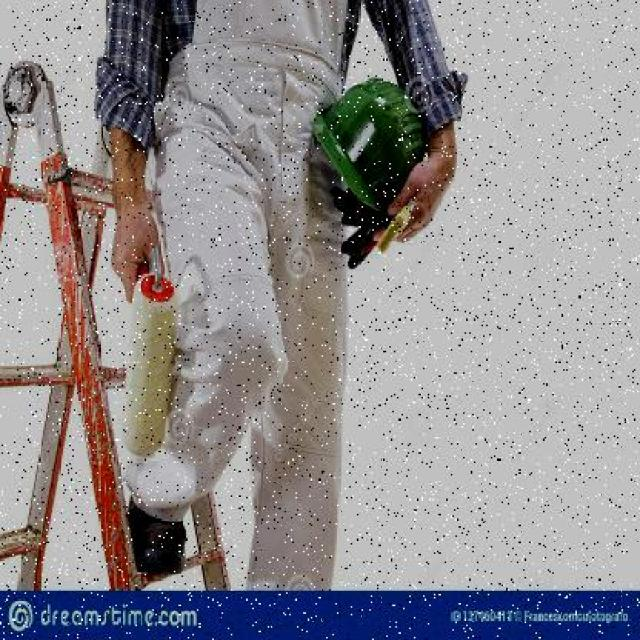shoes: (128, 487, 188, 575)
